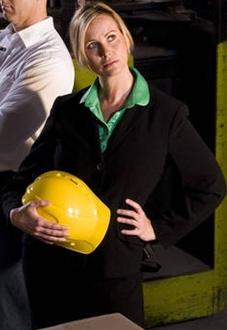hard-hat: (21, 170, 111, 255)
